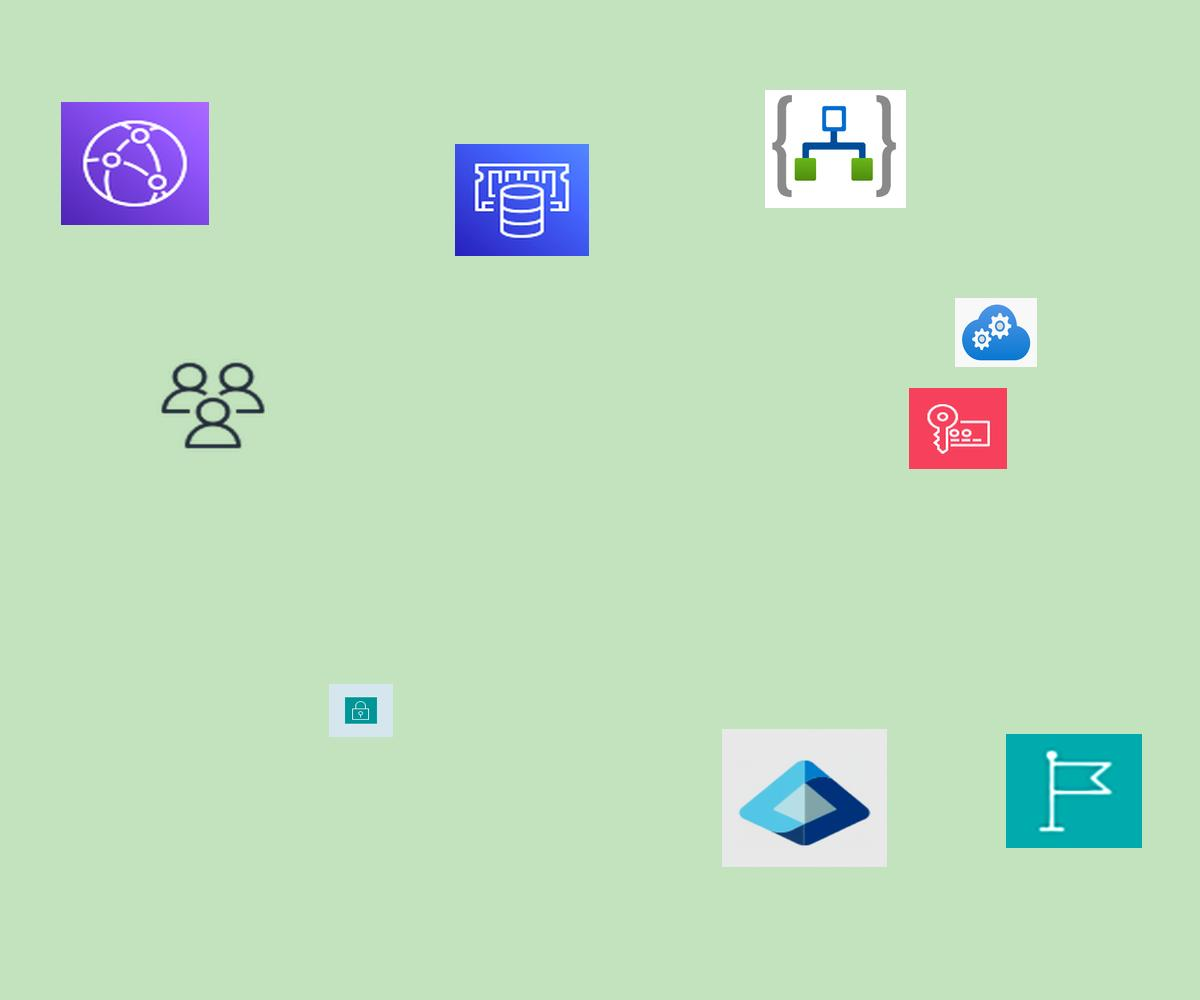AWS-CloudFront: (61, 102, 209, 225)
AWS-ElastiCache: (455, 144, 589, 256)
AWS-Key-Management-Service: (909, 388, 1007, 469)
AWS-Private-subnet: (329, 684, 393, 737)
AWS-Region: (1006, 734, 1142, 848)
AWS-Res_Users: (157, 359, 269, 452)
Azure_cloud_services: (955, 298, 1037, 367)
Azure_integration-204-Logic-Apps: (765, 90, 906, 208)
Azure_microsoft_entra: (722, 729, 887, 867)
